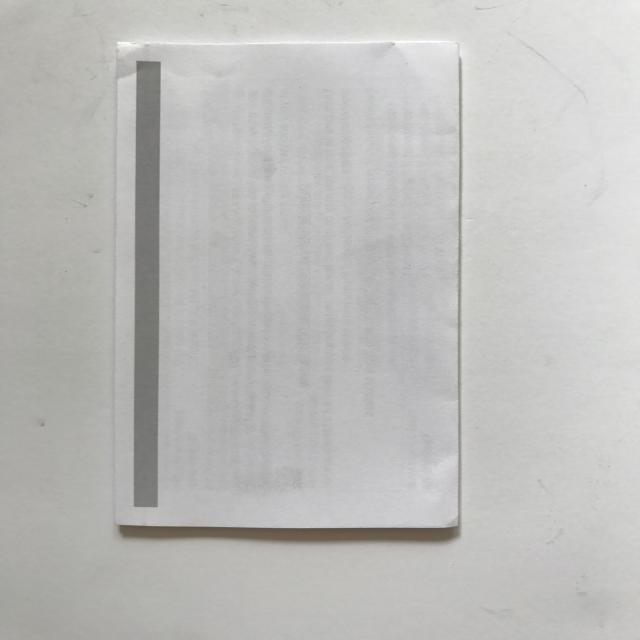paper: (110, 42, 473, 536)
